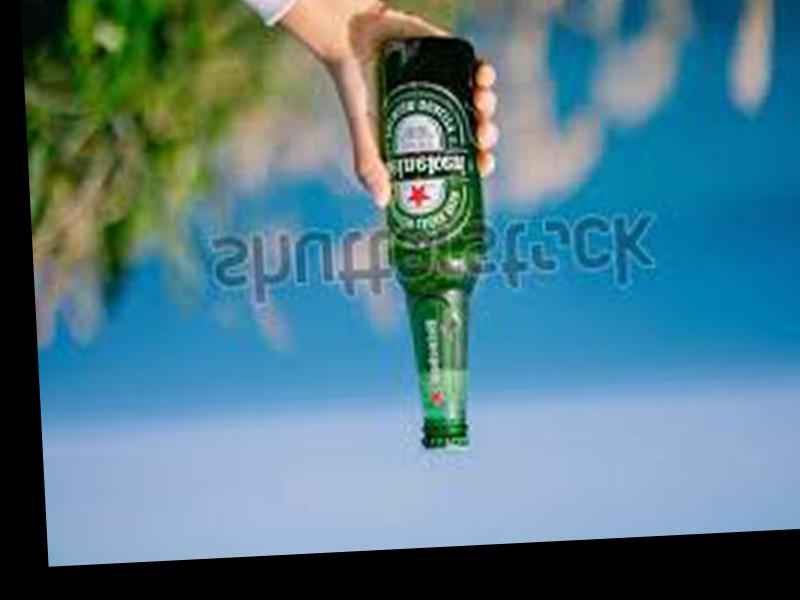Beer: (372, 39, 494, 453)
